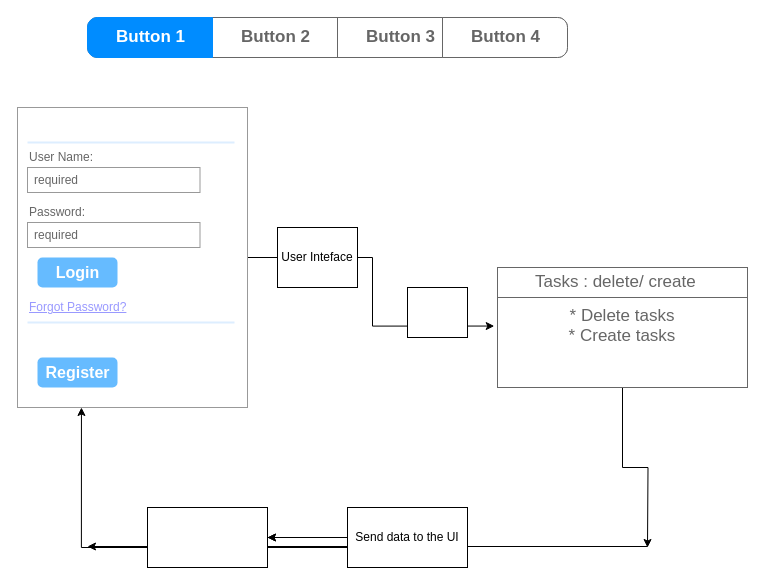
Image size: 765x585. Some labels were removed from this diagram. Each missing label, with the centre of its shape:
* Attractive Details inside the Logged in page: (x=207, y=537)
After log In: (x=437, y=312)
